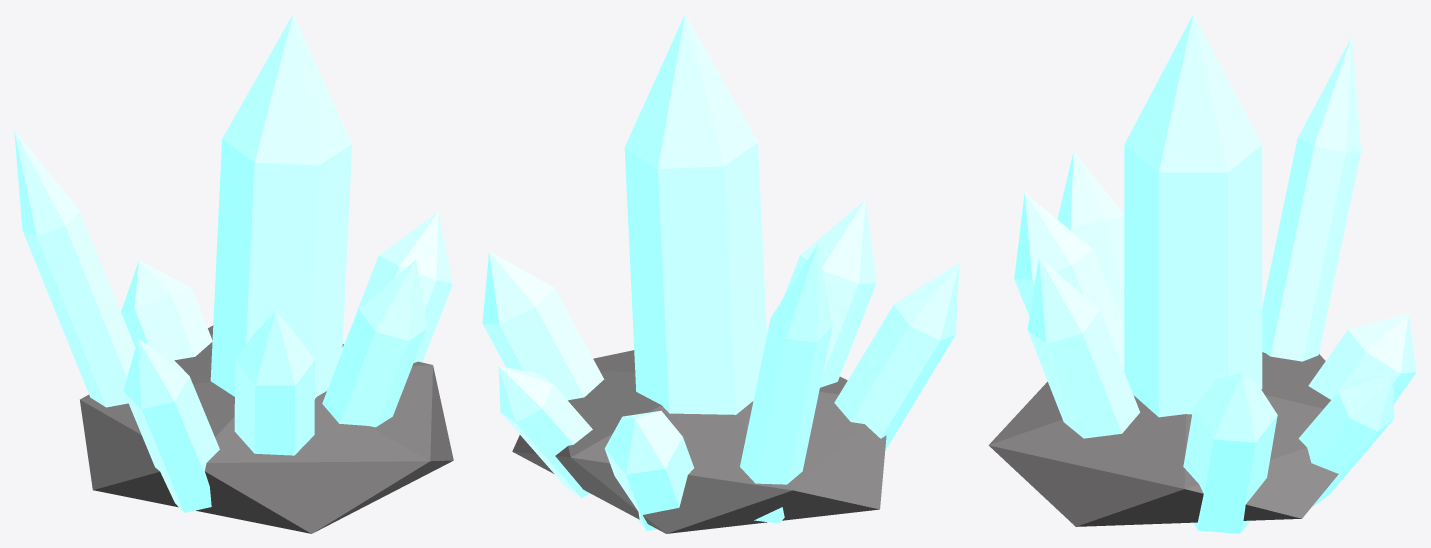
File: SM_Crystals_Blue.glb
3 views of the same model, side by side, from view 1: azimuth 30°, elevation 25°; view 2: azimuth 150°, elevation 25°; view 3: azimuth 270°, elevation 25° (orthographic). The views are drawn at different scales.
Visible parts, largest first — view 1: SM_Crystals_Blue; view 2: SM_Crystals_Blue; view 3: SM_Crystals_Blue.
Part boxes in pixels (bbox=[...]): SM_Crystals_Blue: bbox=[14, 14, 453, 533]; SM_Crystals_Blue: bbox=[482, 14, 959, 533]; SM_Crystals_Blue: bbox=[988, 14, 1416, 533].
Bounding box in the file's own units: 0.878 × 1.01 × 0.8053.
